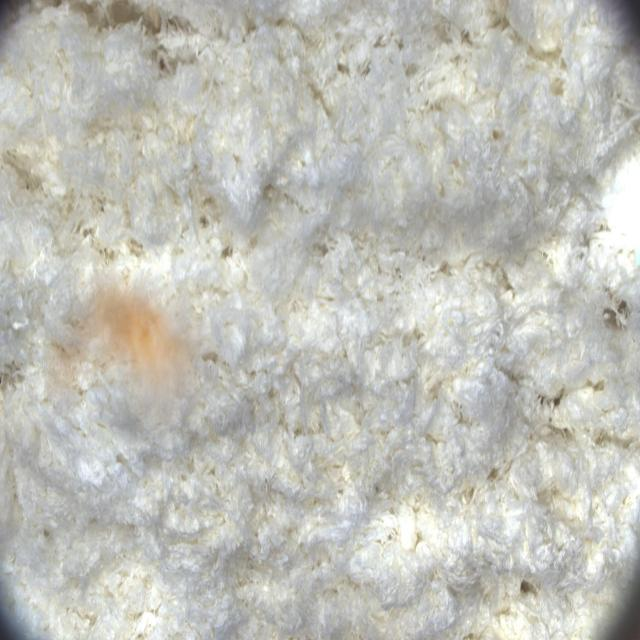dust: (44, 269, 213, 429)
